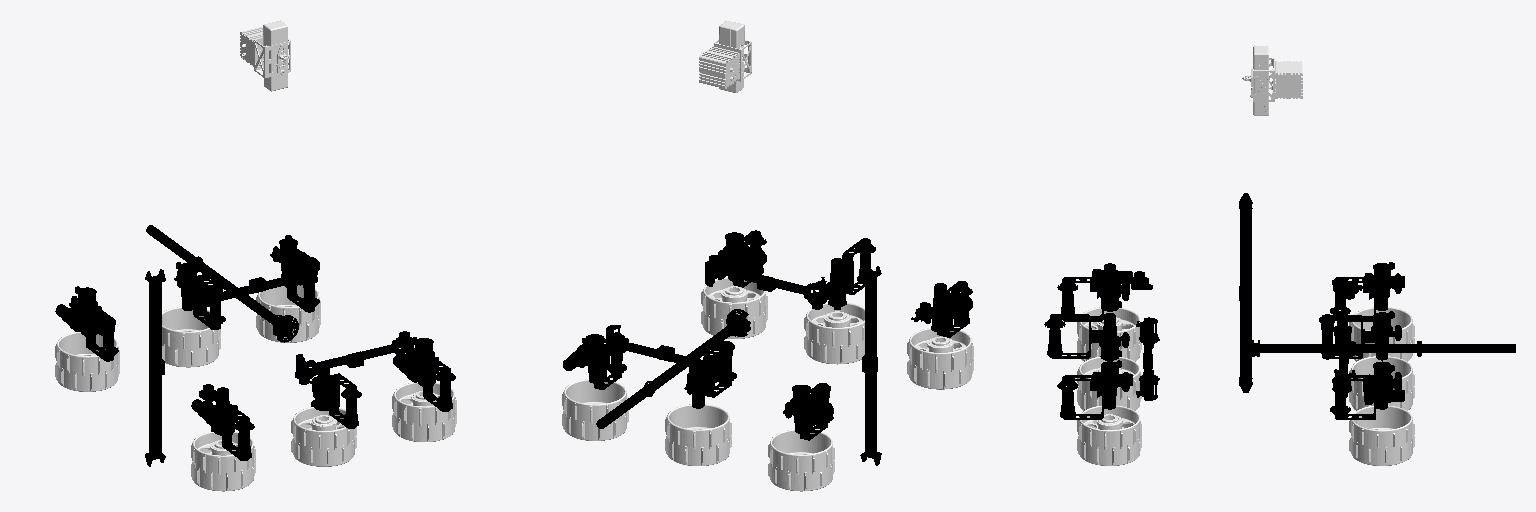
--- Render facts (derived) ---
Views: 3 orthographic renders of the robot side by side, from view 1: azimuth 30°, elevation 25°; view 2: azimuth 150°, elevation 25°; view 3: azimuth 270°, elevation 25°.
Model exoter with 32 links and 31 joints (22 revolute, 6 continuous, 3 fixed), rooted at body, posed every joint at zero.
Visible links, largest first — view 1: mr_wheel, fr_wheel, rl_wheel, rr_wheel, ml_wheel, rear_bogie, camera_assembly, mast_assembly, fl_wheel, mr_motor, ml_motor, fr_motor (+9 smaller); view 2: ml_wheel, rr_wheel, rl_wheel, mr_wheel, fl_wheel, fr_wheel, camera_assembly, rear_bogie, mast_assembly, mr_motor, ml_motor, rl_motor (+7 smaller); view 3: fl_wheel, fr_wheel, mast_assembly, camera_assembly, rear_bogie, mr_motor, rr_wheel, mr_wheel, ml_motor, ml_wheel, fl_motor, rr_motor (+7 smaller).
Link boxes in pixels (x1=…): mr_wheel: x1=291, y1=407, x2=356, y2=466; fr_wheel: x1=392, y1=382, x2=456, y2=441; rl_wheel: x1=55, y1=332, x2=119, y2=391; rr_wheel: x1=191, y1=432, x2=255, y2=491; ml_wheel: x1=162, y1=307, x2=220, y2=367; rear_bogie: x1=145, y1=269, x2=165, y2=466; camera_assembly: x1=240, y1=20, x2=290, y2=91; mast_assembly: x1=146, y1=225, x2=298, y2=342; fl_wheel: x1=256, y1=285, x2=320, y2=342; mr_motor: x1=310, y1=363, x2=361, y2=428; ml_motor: x1=174, y1=262, x2=225, y2=329; fr_motor: x1=393, y1=337, x2=438, y2=384; ml_wheel: x1=665, y1=404, x2=731, y2=465; rr_wheel: x1=907, y1=328, x2=973, y2=389; rl_wheel: x1=768, y1=429, x2=834, y2=491; mr_wheel: x1=804, y1=303, x2=864, y2=364; fl_wheel: x1=562, y1=379, x2=628, y2=440; fr_wheel: x1=701, y1=277, x2=767, y2=338; camera_assembly: x1=699, y1=21, x2=751, y2=92; rear_bogie: x1=860, y1=264, x2=881, y2=465; mast_assembly: x1=596, y1=309, x2=750, y2=428; mr_motor: x1=826, y1=238, x2=875, y2=309; ml_motor: x1=684, y1=341, x2=736, y2=408; rl_motor: x1=783, y1=385, x2=833, y2=433; fl_wheel: x1=1349, y1=405, x2=1414, y2=465; fr_wheel: x1=1077, y1=405, x2=1141, y2=465; mast_assembly: x1=1241, y1=335, x2=1515, y2=362; camera_assembly: x1=1242, y1=46, x2=1302, y2=115; rear_bogie: x1=1239, y1=193, x2=1252, y2=392; mr_motor: x1=1044, y1=313, x2=1129, y2=360; rr_wheel: x1=1077, y1=307, x2=1141, y2=361; mr_wheel: x1=1077, y1=357, x2=1141, y2=410; ml_motor: x1=1319, y1=311, x2=1401, y2=360; ml_wheel: x1=1349, y1=356, x2=1414, y2=410; fl_motor: x1=1363, y1=361, x2=1404, y2=409; rr_motor: x1=1090, y1=263, x2=1132, y2=311.
Bounding box of the posed robot: 0.6787 × 1.07 × 1.01 m (x, y, z).
Meshes: 25 distinct files referenced, 27 mesh visuals loaded (22 OBJ); not drawn: 3 (reference not matched to a file when rendering).

robot.urdf — exoter:
<?xml version="1.0"?>
<!-- created with Phobos 0.7 -->
  <robot name="exoter">

    <link name="body">
      <inertial>
        <origin xyz="-0.0405 0 0.14642" rpy="0 0 0"/>
        <mass value="15.0"/>
        <inertia ixx="0.346254" ixy="0" ixz="0" iyy="0.379962" iyz="0" izz="0.464019"/>
      </inertial>
      <visual name="visual_0_body">
        <origin xyz="-0.0405 0 0.11" rpy="0 0 0"/>
        <geometry>
          <mesh filename="../meshes/Body Base Vicon And Gps.obj" scale="1.0 1.0 1.0"/>
        </geometry>
        <material name="exoter_body"/>
      </visual>
      <collision name="collision_0_body">
        <origin xyz="-0.0405 0 0.14642" rpy="0 0 0"/>
        <geometry>
          <box size="0.446195 0.414879 0.32385"/>
        </geometry>
      </collision>
    </link>

    <link name="rear_bogie">
      <inertial>
        <origin xyz="0 -0.000402 -0.019861" rpy="0 0 0"/>
        <mass value="0.2"/>
        <inertia ixx="0.004019" ixy="0" ixz="0" iyy="4e-05" iyz="0" izz="0.004027"/>
      </inertial>
      <visual name="visual_0_rear_bogie">
        <origin xyz="0 0 -0.02" rpy="0 0 0"/>
        <geometry>
          <mesh filename="../meshes/Rear Bogie.obj" scale="1.0 1.0 1.0"/>
        </geometry>
        <material name="exoter_black"/>
      </visual>
      <collision name="collision_0_rear_bogie">
        <origin xyz="0 -0.000402 -0.019861" rpy="0 0 0"/>
        <geometry>
          <box size="0.038019 0.490083 0.030617"/>
        </geometry>
      </collision>
    </link>

    <link name="left_bogie">
      <inertial>
        <origin xyz="0 0 0" rpy="0 0 0"/>
        <mass value="0.2"/>
        <inertia ixx="2.7e-05" ixy="0" ixz="0" iyy="0.00129" iyz="0" izz="0.001301"/>
      </inertial>
      <visual name="visual_0_left_bogie">
        <origin xyz="0 0 0" rpy="0 0 0"/>
        <geometry>
          <mesh filename="../meshes/Lateral Bogie.obj" scale="1.0 1.0 1.0"/>
        </geometry>
        <material name="exoter_black"/>
      </visual>
      <collision name="collision_0_left_bogie">
        <origin xyz="0 0 0" rpy="0 0 0"/>
        <geometry>
          <box size="0.277325 0.033846 0.022002"/>
        </geometry>
      </collision>
    </link>

    <link name="right_bogie">
      <inertial>
        <origin xyz="0 0 0" rpy="0 0 0"/>
        <mass value="0.2"/>
        <inertia ixx="2.7e-05" ixy="0" ixz="0" iyy="0.00129" iyz="0" izz="0.001301"/>
      </inertial>
      <visual name="visual_0_right_bogie">
        <origin xyz="0 0 0" rpy="3.14 0 0"/>
        <geometry>
          <mesh filename="../meshes/Lateral Bogie.001.obj" scale="1.0 1.0 1.0"/>
        </geometry>
        <material name="exoter_black"/>
      </visual>
      <collision name="collision_0_right_bogie">
        <origin xyz="0 0 0" rpy="3.14 0 0"/>
        <geometry>
          <box size="0.277325 0.033846 0.022002"/>
        </geometry>
      </collision>
    </link>

    <link name="fl_hinge">
      <visual name="visual_0_fl_hinge">
        <origin xyz="0 0 0" rpy="0 0 0"/>
        <geometry>
          <mesh filename="../meshes/Hinge Front Middle.001.obj" scale="1.0 1.0 1.0"/>
        </geometry>
        <material name="exoter_black"/>
      </visual>
    </link>

    <link name="fr_hinge">
      <visual name="visual_0_fr_hinge">
        <origin xyz="0 0 0" rpy="3.14 0 0"/>
        <geometry>
          <mesh filename="../meshes/Hinge Front Middle.obj" scale="1.0 1.0 1.0"/>
        </geometry>
        <material name="exoter_black"/>
      </visual>
    </link>

    <link name="ml_hinge">
      <visual name="visual_0_ml_hinge">
        <origin xyz="0 0 0" rpy="0 3.14 0"/>
        <geometry>
          <mesh filename="../meshes/Hinge Front Middle.003.obj" scale="1.0 1.0 1.0"/>
        </geometry>
        <material name="exoter_black"/>
      </visual>
    </link>

    <link name="mr_hinge">
      <visual name="visual_0_mr_hinge">
        <origin xyz="0 0 0" rpy="-0.001593 0.001593 -3.141593"/>
        <geometry>
          <mesh filename="../meshes/Hinge Front Middle.002.obj" scale="1.0 1.0 1.0"/>
        </geometry>
        <material name="exoter_black"/>
      </visual>
    </link>

    <link name="rl_hinge">
      <visual name="visual_0_rl_hinge">
        <origin xyz="0 0 0" rpy="0 0 0"/>
        <geometry>
          <mesh filename="../meshes/Hinge Back Left.obj" scale="1.0 1.0 1.0"/>
        </geometry>
        <material name="exoter_black"/>
      </visual>
    </link>

    <link name="rr_hinge">
      <visual name="visual_0_rr_hinge">
        <origin xyz="0 0 0" rpy="0 0 0"/>
        <geometry>
          <mesh filename="../meshes/Hinge Back Right.obj" scale="1.0 1.0 1.0"/>
        </geometry>
        <material name="exoter_black"/>
      </visual>
    </link>

    <link name="fl_motor">
      <inertial>
        <origin xyz="0.018 -0.000136 0.003997" rpy="0 0 0"/>
        <mass value="0.5"/>
        <inertia ixx="0.000889" ixy="0" ixz="0" iyy="0.000702" iyz="0" izz="0.000817"/>
      </inertial>
      <visual name="visual_0_fl_motor">
        <origin xyz="0 0 0" rpy="0 0 0"/>
        <geometry>
          <mesh filename="../meshes/Motor Block Fl.obj" scale="1.0 1.0 1.0"/>
        </geometry>
        <material name="exoter_black"/>
      </visual>
      <collision name="collision_0_fl_motor">
        <origin xyz="0.018 -0.000136 0.003997" rpy="0 0 0"/>
        <geometry>
          <box size="0.086968 0.109773 0.096307"/>
        </geometry>
      </collision>
    </link>

    <link name="fr_motor">
      <inertial>
        <origin xyz="-0.018 -0.000136 0.003997" rpy="0 0 0"/>
        <mass value="0.5"/>
        <inertia ixx="0.000889" ixy="0" ixz="0" iyy="0.000702" iyz="0" izz="0.000817"/>
      </inertial>
      <visual name="visual_0_fr_motor">
        <origin xyz="0 0 0" rpy="0 0 0"/>
        <geometry>
          <mesh filename="../meshes/Motor Block Rl.obj" scale="1.0 1.0 1.0"/>
        </geometry>
        <material name="exoter_black"/>
      </visual>
      <collision name="collision_0_fr_motor">
        <origin xyz="-0.018 -0.000136 0.003997" rpy="0 0 0"/>
        <geometry>
          <box size="0.086968 0.109773 0.096307"/>
        </geometry>
      </collision>
    </link>

    <link name="rl_motor">
      <inertial>
        <origin xyz="-0.018 -0.000136 0.003997" rpy="0 0 0"/>
        <mass value="0.5"/>
        <inertia ixx="0.000889" ixy="0" ixz="0" iyy="0.000702" iyz="0" izz="0.000817"/>
      </inertial>
      <visual name="visual_0_rl_motor">
        <origin xyz="0 0 0" rpy="0 0 0"/>
        <geometry>
          <mesh filename="../meshes/Motor Block Rl.001.obj" scale="1.0 1.0 1.0"/>
        </geometry>
        <material name="exoter_black"/>
      </visual>
      <collision name="collision_0_rl_motor">
        <origin xyz="-0.018 -0.000136 0.003997" rpy="0 0 0"/>
        <geometry>
          <box size="0.086968 0.109773 0.096307"/>
        </geometry>
      </collision>
    </link>

    <link name="rr_motor">
      <inertial>
        <origin xyz="-0.018 0.000136 0.003997" rpy="0 0 0"/>
        <mass value="0.5"/>
        <inertia ixx="0.000889" ixy="0" ixz="0" iyy="0.000702" iyz="0" izz="0.000817"/>
      </inertial>
      <visual name="visual_0_rr_motor">
        <origin xyz="0 0 0" rpy="0 0 0"/>
        <geometry>
          <mesh filename="../meshes/Motor Block Rr.obj" scale="1.0 1.0 1.0"/>
        </geometry>
        <material name="exoter_black"/>
      </visual>
      <collision name="collision_0_rr_motor">
        <origin xyz="-0.018 0.000136 0.003997" rpy="0 0 0"/>
        <geometry>
          <box size="0.086968 0.109773 0.096307"/>
        </geometry>
      </collision>
    </link>

    <link name="ml_motor">
      <inertial>
        <origin xyz="0 0 -0.051" rpy="0 0 0"/>
        <mass value="0.5"/>
        <inertia ixx="0.002084" ixy="0" ixz="0" iyy="0.001697" iyz="0" izz="0.000612"/>
      </inertial>
      <visual name="visual_0_ml_motor">
        <origin xyz="0 0 0" rpy="0 0 0"/>
        <geometry>
          <mesh filename="../meshes/Motor Middle Left.obj" scale="1.0 1.0 1.0"/>
        </geometry>
        <material name="exoter_black"/>
      </visual>
      <collision name="collision_0_ml_motor">
        <origin xyz="0 0 -0.051" rpy="0 0 0"/>
        <geometry>
          <box size="0.051968 0.1095 0.194979"/>
        </geometry>
      </collision>
    </link>

    <link name="mr_motor">
      <inertial>
        <origin xyz="0 0 -0.051" rpy="0 0 0"/>
        <mass value="0.5"/>
        <inertia ixx="0.002084" ixy="0" ixz="0" iyy="0.001697" iyz="0" izz="0.000612"/>
      </inertial>
      <visual name="visual_0_mr_motor">
        <origin xyz="0 0 0" rpy="0 0 0"/>
        <geometry>
          <mesh filename="../meshes/Motor Middle Right.obj" scale="1.0 1.0 1.0"/>
        </geometry>
        <material name="exoter_black"/>
      </visual>
      <collision name="collision_0_mr_motor">
        <origin xyz="0 0 -0.051" rpy="0 0 0"/>
        <geometry>
          <box size="0.051968 0.1095 0.194979"/>
        </geometry>
      </collision>
    </link>

    <link name="fl_fork">
      <visual name="visual_0_fl_fork">
        <origin xyz="0 0 0" rpy="0 0 0"/>
        <geometry>
          <mesh filename="../meshes/Fork Left.obj" scale="1.0 1.0 1.0"/>
        </geometry>
        <material name="exoter_black"/>
      </visual>
    </link>

    <link name="fr_fork">
      <visual name="visual_0_fr_fork">
        <origin xyz="0 0 0" rpy="0 0 0"/>
        <geometry>
          <mesh filename="../meshes/Fork Right.001.obj" scale="1.0 1.0 1.0"/>
        </geometry>
        <material name="exoter_black"/>
      </visual>
    </link>

    <link name="rl_fork">
      <visual name="visual_0_rl_fork">
        <origin xyz="0 0 0" rpy="0 0 0"/>
        <geometry>
          <mesh filename="../meshes/Fork Left.001.obj" scale="1.0 1.0 1.0"/>
        </geometry>
        <material name="exoter_black"/>
      </visual>
    </link>

    <link name="rr_fork">
      <visual name="visual_0_rr_fork">
        <origin xyz="0 0 0" rpy="0 0 0"/>
        <geometry>
          <mesh filename="../meshes/Fork Right.obj" scale="1.0 1.0 1.0"/>
        </geometry>
        <material name="exoter_black"/>
      </visual>
    </link>

    <link name="fl_wheel">
      <inertial>
        <origin xyz="0 0 0" rpy="0 0 0"/>
        <mass value="0.3"/>
        <inertia ixx="0.000664" ixy="0" ixz="0" iyy="0.000664" iyz="0" izz="0.000664"/>
      </inertial>
      <visual name="visual_0_fl_wheel">
        <origin xyz="0 0 0" rpy="0 0 0"/>
        <geometry>
          <mesh filename="../meshes/Wheel.obj" scale="1.0 1.0 1.0"/>
        </geometry>
        <material name="exoter_white"/>
      </visual>
      <collision name="collision_0_fl_wheel">
        <origin xyz="0 0 0" rpy="0 0 0"/>
        <geometry>
          <sphere radius="0.074365"/>
        </geometry>
      </collision>
    </link>

    <link name="fr_wheel">
      <inertial>
        <origin xyz="0 0 0" rpy="0 0 0"/>
        <mass value="0.3"/>
        <inertia ixx="0.000664" ixy="0" ixz="0" iyy="0.000664" iyz="0" izz="0.000664"/>
      </inertial>
      <visual name="visual_0_fr_wheel">
        <origin xyz="0 0 0" rpy="3.14 0 0"/>
        <geometry>
          <mesh filename="../meshes/Wheel.obj" scale="1.0 1.0 1.0"/>
        </geometry>
        <material name="exoter_white"/>
      </visual>
      <collision name="collision_0_fr_wheel">
        <origin xyz="0 0 0" rpy="3.14 0 0"/>
        <geometry>
          <sphere radius="0.074365"/>
        </geometry>
      </collision>
    </link>

    <link name="ml_wheel">
      <inertial>
        <origin xyz="0 0 0" rpy="0 0 0"/>
        <mass value="0.3"/>
        <inertia ixx="0.000664" ixy="0" ixz="0" iyy="0.000664" iyz="0" izz="0.000664"/>
      </inertial>
      <visual name="visual_0_ml_wheel">
        <origin xyz="0 0 0" rpy="0 0 0"/>
        <geometry>
          <mesh filename="../meshes/Wheel.obj" scale="1.0 1.0 1.0"/>
        </geometry>
        <material name="exoter_white"/>
      </visual>
      <collision name="collision_0_ml_wheel">
        <origin xyz="0 0 0" rpy="0 0 0"/>
        <geometry>
          <sphere radius="0.074365"/>
        </geometry>
      </collision>
    </link>

    <link name="mr_wheel">
      <inertial>
        <origin xyz="0 0 0" rpy="0 0 0"/>
        <mass value="0.3"/>
        <inertia ixx="0.000664" ixy="0" ixz="0" iyy="0.000664" iyz="0" izz="0.000664"/>
      </inertial>
      <visual name="visual_0_mr_wheel">
        <origin xyz="0 0 0" rpy="3.14 0 0"/>
        <geometry>
          <mesh filename="../meshes/Wheel.obj" scale="1.0 1.0 1.0"/>
        </geometry>
        <material name="exoter_white"/>
      </visual>
      <collision name="collision_0_mr_wheel">
        <origin xyz="0 0 0" rpy="3.14 0 0"/>
        <geometry>
          <sphere radius="0.074365"/>
        </geometry>
      </collision>
    </link>

    <link name="rl_wheel">
      <inertial>
        <origin xyz="0 0 0" rpy="0 0 0"/>
        <mass value="0.3"/>
        <inertia ixx="0.000664" ixy="0" ixz="0" iyy="0.000664" iyz="0" izz="0.000664"/>
      </inertial>
      <visual name="visual_0_rl_wheel">
        <origin xyz="0 0 0" rpy="0 0 0"/>
        <geometry>
          <mesh filename="../meshes/Wheel.obj" scale="1.0 1.0 1.0"/>
        </geometry>
        <material name="exoter_white"/>
      </visual>
      <collision name="collision_0_rl_wheel">
        <origin xyz="0 0 0" rpy="0 0 0"/>
        <geometry>
          <sphere radius="0.074365"/>
        </geometry>
      </collision>
    </link>

    <link name="rr_wheel">
      <inertial>
        <origin xyz="0 0 0" rpy="0 0 0"/>
        <mass value="0.3"/>
        <inertia ixx="0.000664" ixy="0" ixz="0" iyy="0.000664" iyz="0" izz="0.000664"/>
      </inertial>
      <visual name="visual_0_rr_wheel">
        <origin xyz="0 0 0" rpy="3.14 0 0"/>
        <geometry>
          <mesh filename="../meshes/Wheel.obj" scale="1.0 1.0 1.0"/>
        </geometry>
        <material name="exoter_white"/>
      </visual>
      <collision name="collision_0_rr_wheel">
        <origin xyz="0 0 0" rpy="3.14 0 0"/>
        <geometry>
          <sphere radius="0.074365"/>
        </geometry>
      </collision>
    </link>

    <link name="mast_assembly">
      <inertial>
        <origin xyz="0.000625 -0.00014 0.302" rpy="0 0 0"/>
        <mass value="0.5"/>
        <inertia ixx="0.021904" ixy="0" ixz="0" iyy="0.021903" iyz="0" izz="3.6e-05"/>
      </inertial>
      <visual name="visual_0_mast_assembly">
        <origin xyz="0 0 0" rpy="0 0 0"/>
        <geometry>
          <mesh filename="../meshes/Mast Assembly.obj" scale="1.0 1.0 1.0"/>
        </geometry>
        <material name="exoter_black"/>
      </visual>
      <collision name="collision_0_mast_assembly">
        <origin xyz="0.000625 -0.00014 0.302" rpy="0 0 0"/>
        <geometry>
          <box size="0.020475 0.020879 0.724748"/>
        </geometry>
      </collision>
    </link>

    <link name="pan_drive">
      <visual name="visual_0_pan_drive">
        <origin xyz="0 0 0" rpy="0 0 0"/>
        <geometry>
          <mesh filename="../meshes/Pan Drive.obj" scale="1.0 1.0 1.0"/>
        </geometry>
        <material name="exoter_black"/>
      </visual>
    </link>

    <link name="tilt_drive">
      <visual name="visual_0_tilt_drive">
        <origin xyz="0 0 0" rpy="0 0 0"/>
        <geometry>
          <mesh filename="../meshes/Tilt Drive.obj" scale="1.0 1.0 1.0"/>
        </geometry>
        <material name="exoter_black"/>
      </visual>
    </link>

    <link name="camera_assembly">
      <inertial>
        <origin xyz="-0.011215 -0.001045 0.061" rpy="0 0 0"/>
        <mass value="0.7"/>
        <inertia ixx="0.00256" ixy="0" ixz="0" iyy="0.001447" iyz="0" izz="0.001769"/>
      </inertial>
      <visual name="visual_0_camera_assembly">
        <origin xyz="0 0 0" rpy="0 0 0"/>
        <geometry>
          <mesh filename="../meshes/Bb2 And Tof Camera.obj" scale="1.0 1.0 1.0"/>
        </geometry>
        <material name="exoter_white"/>
      </visual>
      <collision name="collision_0_camera_assembly">
        <origin xyz="-0.011215 -0.001045 0.061" rpy="0 0 0"/>
        <geometry>
          <box size="0.075013 0.157175 0.1385"/>
        </geometry>
      </collision>
    </link>

    <link name="camera_left">
    </link>

    <link name="camera_right">
    </link>

    <joint name="rear_passive" type="revolute">
      <origin xyz="-0.265 0 0" rpy="0 0 0"/>
      <parent link="body"/>
      <child link="rear_bogie"/>
      <axis xyz="1.0 0 0"/>
      <limit lower="-1.57" upper="1.57" effort="100.0" velocity="6.0"/>
    </joint>

    <joint name="right_passive" type="revolute">
      <origin xyz="0.1325 -0.223 0" rpy="0 0 0"/>
      <parent link="body"/>
      <child link="right_bogie"/>
      <axis xyz="0 1.0 0"/>
      <limit lower="-1.57" upper="1.57" effort="100.0" velocity="6.0"/>
    </joint>

    <joint name="left_passive" type="revolute">
      <origin xyz="0.1325 0.223 0" rpy="0 0 0"/>
      <parent link="body"/>
      <child link="left_bogie"/>
      <axis xyz="0 1.0 0"/>
      <limit lower="-1.57" upper="1.57" effort="1.0" velocity="6.0"/>
    </joint>

    <joint name="fl_mimic" type="revolute">
      <origin xyz="0.1325 0 0" rpy="0 0 0"/>
      <parent link="left_bogie"/>
      <child link="fl_hinge"/>
      <axis xyz="0 1.0 0"/>
      <limit lower="-1.57" upper="1.57" effort="200.0" velocity="6.0"/>
    </joint>

    <joint name="fr_mimic" type="revolute">
      <origin xyz="0.1325 0 0" rpy="0 0 0"/>
      <parent link="right_bogie"/>
      <child link="fr_hinge"/>
      <axis xyz="0 1.0 0"/>
      <limit lower="-1.57" upper="1.57" effort="100.0" velocity="6.0"/>
    </joint>

    <joint name="ml_mimic" type="revolute">
      <origin xyz="-0.1325 0 0" rpy="0 0 0"/>
      <parent link="left_bogie"/>
      <child link="ml_hinge"/>
      <axis xyz="0 1.0 0"/>
      <limit lower="-1.57" upper="1.57" effort="200.0" velocity="6.0"/>
    </joint>

    <joint name="mr_mimic" type="revolute">
      <origin xyz="-0.1325 0 0" rpy="0 0 0"/>
      <parent link="right_bogie"/>
      <child link="mr_hinge"/>
      <axis xyz="0 1.0 0"/>
      <limit lower="-1.57" upper="1.57" effort="100.0" velocity="6.0"/>
    </joint>

    <joint name="rl_mimic" type="revolute">
      <origin xyz="0 0.239 0" rpy="0 0 0"/>
      <parent link="rear_bogie"/>
      <child link="rl_hinge"/>
      <axis xyz="1.0 0 0"/>
      <limit lower="-1.57" upper="1.57" effort="100.0" velocity="6.0"/>
    </joint>

    <joint name="rr_mimic" type="revolute">
      <origin xyz="0 -0.239 0" rpy="0 0 0"/>
      <parent link="rear_bogie"/>
      <child link="rr_hinge"/>
      <axis xyz="1.0 0 0"/>
      <limit lower="-1.57" upper="1.57" effort="100.0" velocity="6.0"/>
    </joint>

    <joint name="fl_walking" type="revolute">
      <origin xyz="0 0.087 -0.005" rpy="0 0 0"/>
      <parent link="fl_hinge"/>
      <child link="fl_motor"/>
      <axis xyz="0 1.0 0"/>
      <limit lower="-1.57" upper="1.57" effort="100.0" velocity="6.0"/>
    </joint>

    <joint name="fr_walking" type="revolute">
      <origin xyz="0 -0.087 -0.005" rpy="0 0 0"/>
      <parent link="fr_hinge"/>
      <child link="fr_motor"/>
      <axis xyz="0 1.0 0"/>
      <limit lower="-1.57" upper="1.57" effort="100.0" velocity="6.0"/>
    </joint>

    <joint name="rl_walking" type="revolute">
      <origin xyz="0 0.071 -0.005" rpy="0 0 0"/>
      <parent link="rl_hinge"/>
      <child link="rl_motor"/>
      <axis xyz="0 1.0 0"/>
      <limit lower="-1.57" upper="1.57" effort="100.0" velocity="6.0"/>
    </joint>

    <joint name="rr_walking" type="revolute">
      <origin xyz="0 -0.071 -0.005" rpy="0 0 0"/>
      <parent link="rr_hinge"/>
      <child link="rr_motor"/>
      <axis xyz="0 1.0 0"/>
      <limit lower="-1.57" upper="1.57" effort="100.0" velocity="6.0"/>
    </joint>

    <joint name="ml_walking" type="revolute">
      <origin xyz="0 0.087 -0.005" rpy="0 0 0"/>
      <parent link="ml_hinge"/>
      <child link="ml_motor"/>
      <axis xyz="0 1.0 0"/>
      <limit lower="-1.57" upper="1.57" effort="100.0" velocity="6.0"/>
    </joint>

    <joint name="mr_walking" type="revolute">
      <origin xyz="0 -0.087 -0.005" rpy="0 0 0"/>
      <parent link="mr_hinge"/>
      <child link="mr_motor"/>
      <axis xyz="0 1.0 0"/>
      <limit lower="-1.57" upper="1.57" effort="100.0" velocity="6.0"/>
    </joint>

    <joint name="fl_steer" type="revolute">
      <origin xyz="0 0 -0.03" rpy="0 0 0"/>
      <parent link="fl_motor"/>
      <child link="fl_fork"/>
      <axis xyz="0 0 1.0"/>
      <limit lower="-1.57" upper="1.57" effort="100.0" velocity="6.0"/>
    </joint>

    <joint name="fr_steer" type="revolute">
      <origin xyz="0 0 -0.03" rpy="0 0 0"/>
      <parent link="fr_motor"/>
      <child link="fr_fork"/>
      <axis xyz="0 0 1.0"/>
      <limit lower="-1.57" upper="1.57" effort="100.0" velocity="6.0"/>
    </joint>

    <joint name="rl_steer" type="revolute">
      <origin xyz="0 0 -0.03" rpy="0 0 0"/>
      <parent link="rl_motor"/>
      <child link="rl_fork"/>
      <axis xyz="0 0 1.0"/>
      <limit lower="-1.57" upper="1.57" effort="100.0" velocity="6.0"/>
    </joint>

    <joint name="rr_steer" type="revolute">
      <origin xyz="0 0 -0.03" rpy="0 0 0"/>
      <parent link="rr_motor"/>
      <child link="rr_fork"/>
      <axis xyz="0 0 1.0"/>
      <limit lower="-1.57" upper="1.57" effort="100.0" velocity="6.0"/>
    </joint>

    <joint name="fl_drive" type="continuous">
      <origin xyz="0 0 -0.0953" rpy="0 0 0"/>
      <parent link="fl_fork"/>
      <child link="fl_wheel"/>
      <axis xyz="0 1.0 0"/>
      <limit effort="100" velocity="6.28"/>
    </joint>

    <joint name="fr_drive" type="continuous">
      <origin xyz="0 0 -0.0953" rpy="0 0 0"/>
      <parent link="fr_fork"/>
      <child link="fr_wheel"/>
      <axis xyz="0 1.0 0"/>
      <limit effort="100" velocity="6.28"/>
    </joint>

    <joint name="ml_drive" type="continuous">
      <origin xyz="0 0 -0.1253" rpy="0 0 0"/>
      <parent link="ml_motor"/>
      <child link="ml_wheel"/>
      <axis xyz="0 1.0 0"/>
      <limit effort="200.0" velocity="6.0"/>
    </joint>

    <joint name="mr_drive" type="continuous">
      <origin xyz="0 0 -0.1253" rpy="0 0 0"/>
      <parent link="mr_motor"/>
      <child link="mr_wheel"/>
      <axis xyz="0 1.0 0"/>
      <limit effort="100" velocity="6.28"/>
    </joint>

    <joint name="rl_drive" type="continuous">
      <origin xyz="0 0 -0.0953" rpy="0 0 0"/>
      <parent link="rl_fork"/>
      <child link="rl_wheel"/>
      <axis xyz="0 1.0 0"/>
      <limit effort="100" velocity="6.28"/>
    </joint>

    <joint name="rr_drive" type="continuous">
      <origin xyz="0 0 -0.0953" rpy="0 0 0"/>
      <parent link="rr_fork"/>
      <child link="rr_wheel"/>
      <axis xyz="0 1.0 0"/>
      <limit effort="100" velocity="6.28"/>
    </joint>

    <joint name="mast_joint" type="fixed">
      <origin xyz="0.076 0 0" rpy="0 0 0"/>
      <parent link="body"/>
      <child link="mast_assembly"/>
      <limit effort="100" velocity="6.28"/>
    </joint>

    <joint name="mast_top_joint" type="revolute">
      <origin xyz="0 0 0.64" rpy="0 0 0"/>
      <parent link="mast_assembly"/>
      <child link="pan_drive"/>
      <axis xyz="0 0 1.0"/>
      <limit lower="-1.57" upper="1.57" effort="100.0" velocity="6.0"/>
    </joint>

    <joint name="pan_joint" type="revolute">
      <origin xyz="0 0 0" rpy="0 0 0"/>
      <parent link="pan_drive"/>
      <child link="tilt_drive"/>
      <axis xyz="0 0 1.0"/>
      <limit lower="-1.57" upper="1.57" effort="100.0" velocity="6.0"/>
    </joint>

    <joint name="tilt_joint" type="revolute">
      <origin xyz="0 0 0.03" rpy="0 0 0"/>
      <parent link="tilt_drive"/>
      <child link="camera_assembly"/>
      <axis xyz="0 1.0 0"/>
      <limit lower="-1.57" upper="1.57" effort="100.0" velocity="6.0"/>
    </joint>

    <joint name="camera_left" type="fixed">
      <origin xyz="0.023272 0.058819 0.035426" rpy="0 -1e-06 0"/>
      <parent link="camera_assembly"/>
      <child link="camera_left"/>
    </joint>

    <joint name="camera_right" type="fixed">
      <origin xyz="0.023272 -0.061145 0.035426" rpy="0 -1e-06 0"/>
      <parent link="camera_assembly"/>
      <child link="camera_right"/>
    </joint>

    <material name="exoter_black">
      <color rgba="0 0 0 1.0"/>
    </material>

    <material name="exoter_body">
      <color rgba="0.649111 0.799172 1.0 1.0"/>
    </material>

    <material name="exoter_white">
      <color rgba="1.0 1.0 1.0 1.0"/>
    </material>

  </robot>
